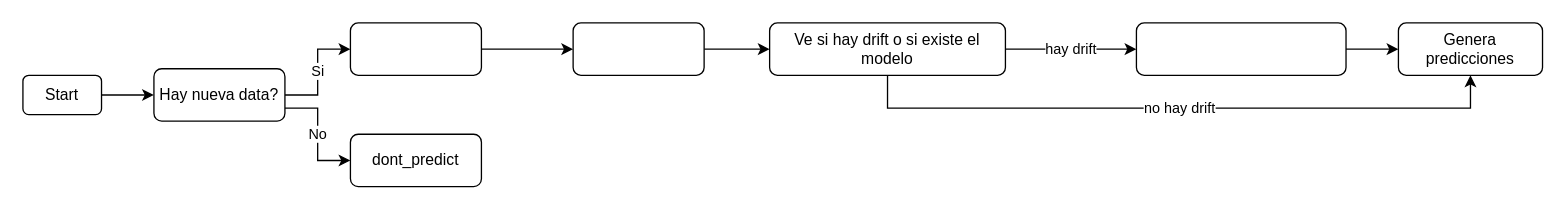
The diagram is 1565 pixels wide and 210 high, and some of its shapes have lost their labels. Each missing label, with the box of its shape:
Optimizar el modelo: (1135, 22, 1346, 75)
preprocessing: (572, 22, 704, 75)
read_new_data: (349, 22, 481, 75)
